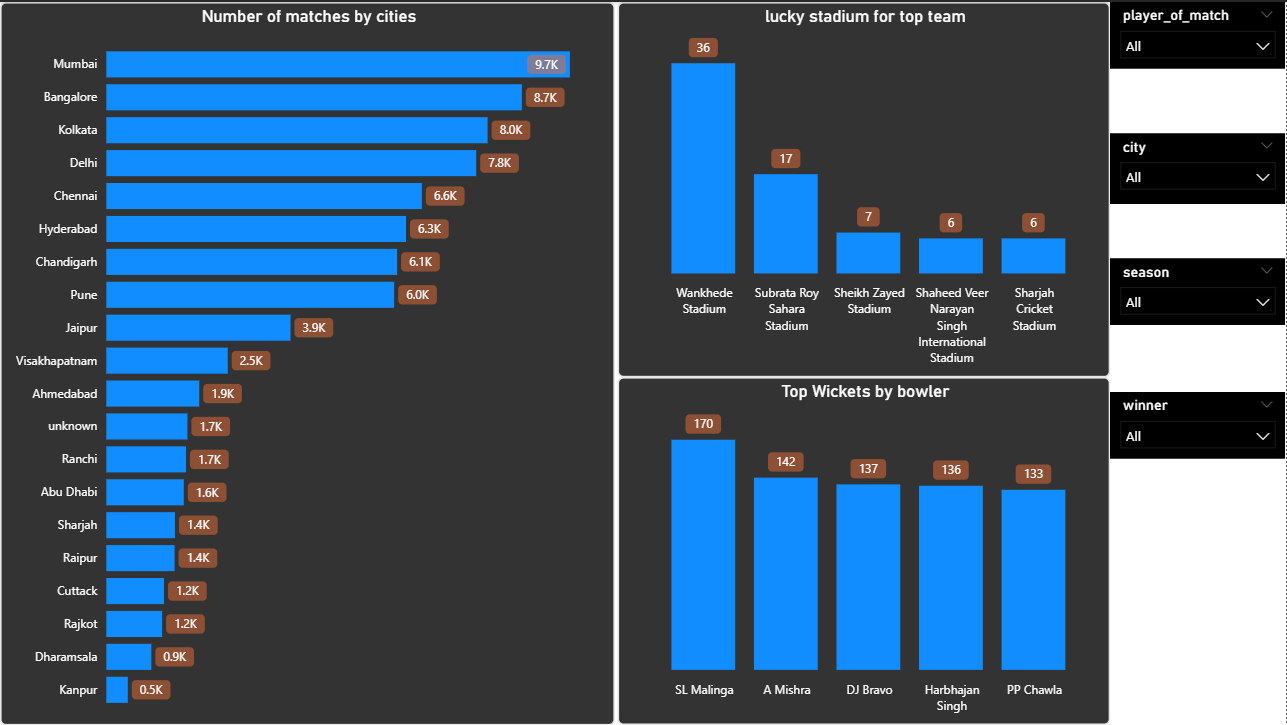

The page's visual inventory and layout, read from the dashboard file:
{"tool":"powerbi","page":{"name":"Dashboard 2","canvas":[1280,720],"ordinal":1},"visuals":[{"type":"clusteredBarChart","title":"Number of  matches by cities","fields":{"Category":["matches  csv.city"],"Y":["CountNonNull(deliveries csv.match_id)"]},"box":[0,0,611.7,720],"z":0},{"type":"columnChart","title":"lucky stadium for  top team","fields":{"Category":["matches  csv.venue"],"Y":["CountNonNull(matches  csv.winner)"]},"box":[615,0,490,373.3],"z":1000},{"type":"columnChart","title":"Top Wickets by bowler","fields":{"Category":["deliveries csv.bowler"],"Y":["deliveries csv.Wickets"]},"box":[615,373.3,490,346.7],"z":2000},{"type":"slicer","fields":{"Values":["matches  csv.city"]},"box":[1105,130,175,70],"z":3000},{"type":"slicer","fields":{"Values":["matches  csv.season"]},"box":[1105,255,175,66.7],"z":4000},{"type":"slicer","fields":{"Values":["matches  csv.winner"]},"box":[1105,388.3,175,66.7],"z":5000},{"type":"slicer","fields":{"Values":["matches  csv.player_of_match"]},"box":[1105,0,175,66.7],"z":6000}]}

Visuals, with their boxes in screenshot pixels (x1, y1, x2, y2), scaled from the page's 1280x720 canvas onto the 1287x725 screenshot:
"Number of  matches by cities" clusteredBarChart: 0, 0, 615, 724
"lucky stadium for  top team" columnChart: 618, 0, 1111, 376
"Top Wickets by bowler" columnChart: 618, 376, 1111, 724
slicer - matches  csv.city: 1111, 131, 1286, 201
slicer - matches  csv.season: 1111, 257, 1286, 324
slicer - matches  csv.winner: 1111, 391, 1286, 458
slicer - matches  csv.player_of_match: 1111, 0, 1286, 67
